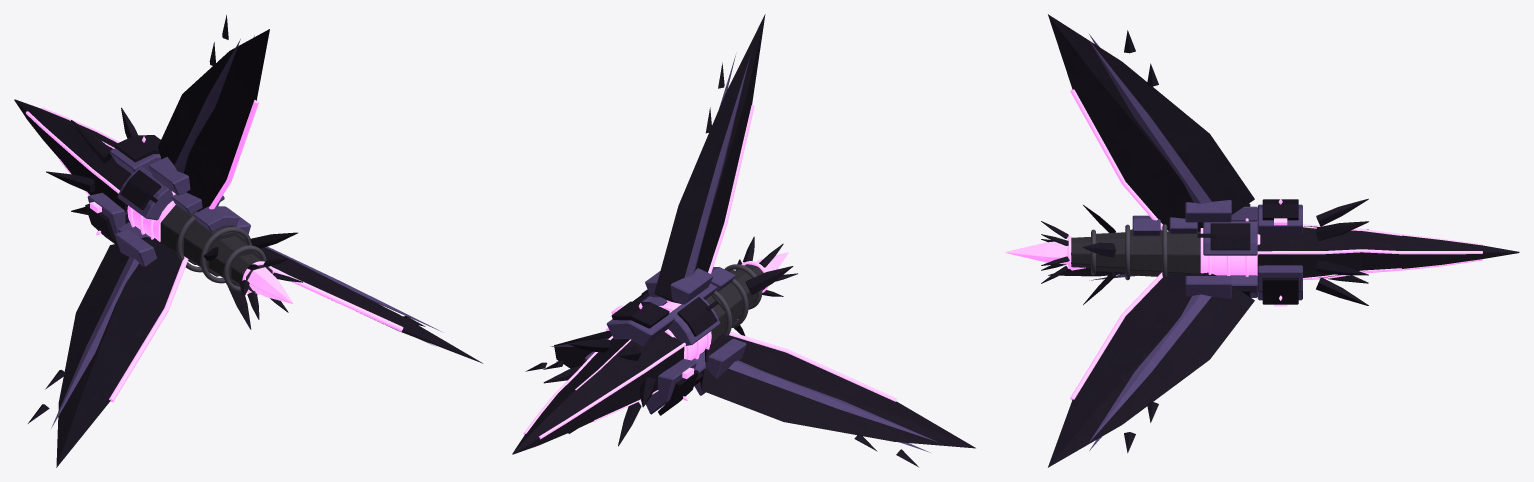
The model's file is shardling.glb.
The picture shows the model from 3 angles, left to right: view 1: azimuth 30°, elevation 25°; view 2: azimuth 150°, elevation 25°; view 3: azimuth 270°, elevation 25°; orthographic projection. The views are drawn at different scales.
Parts seen in each view (by area): view 1: Shardling.001; view 2: Shardling.001; view 3: Shardling.001.
Part boxes in pixels (bbox=[...]): Shardling.001: bbox=[14, 15, 482, 467]; Shardling.001: bbox=[512, 14, 975, 467]; Shardling.001: bbox=[1005, 14, 1519, 467].
Bounding box in the file's own units: 5.46 × 4.73 × 6.16.
6 materials, 6 textured.
